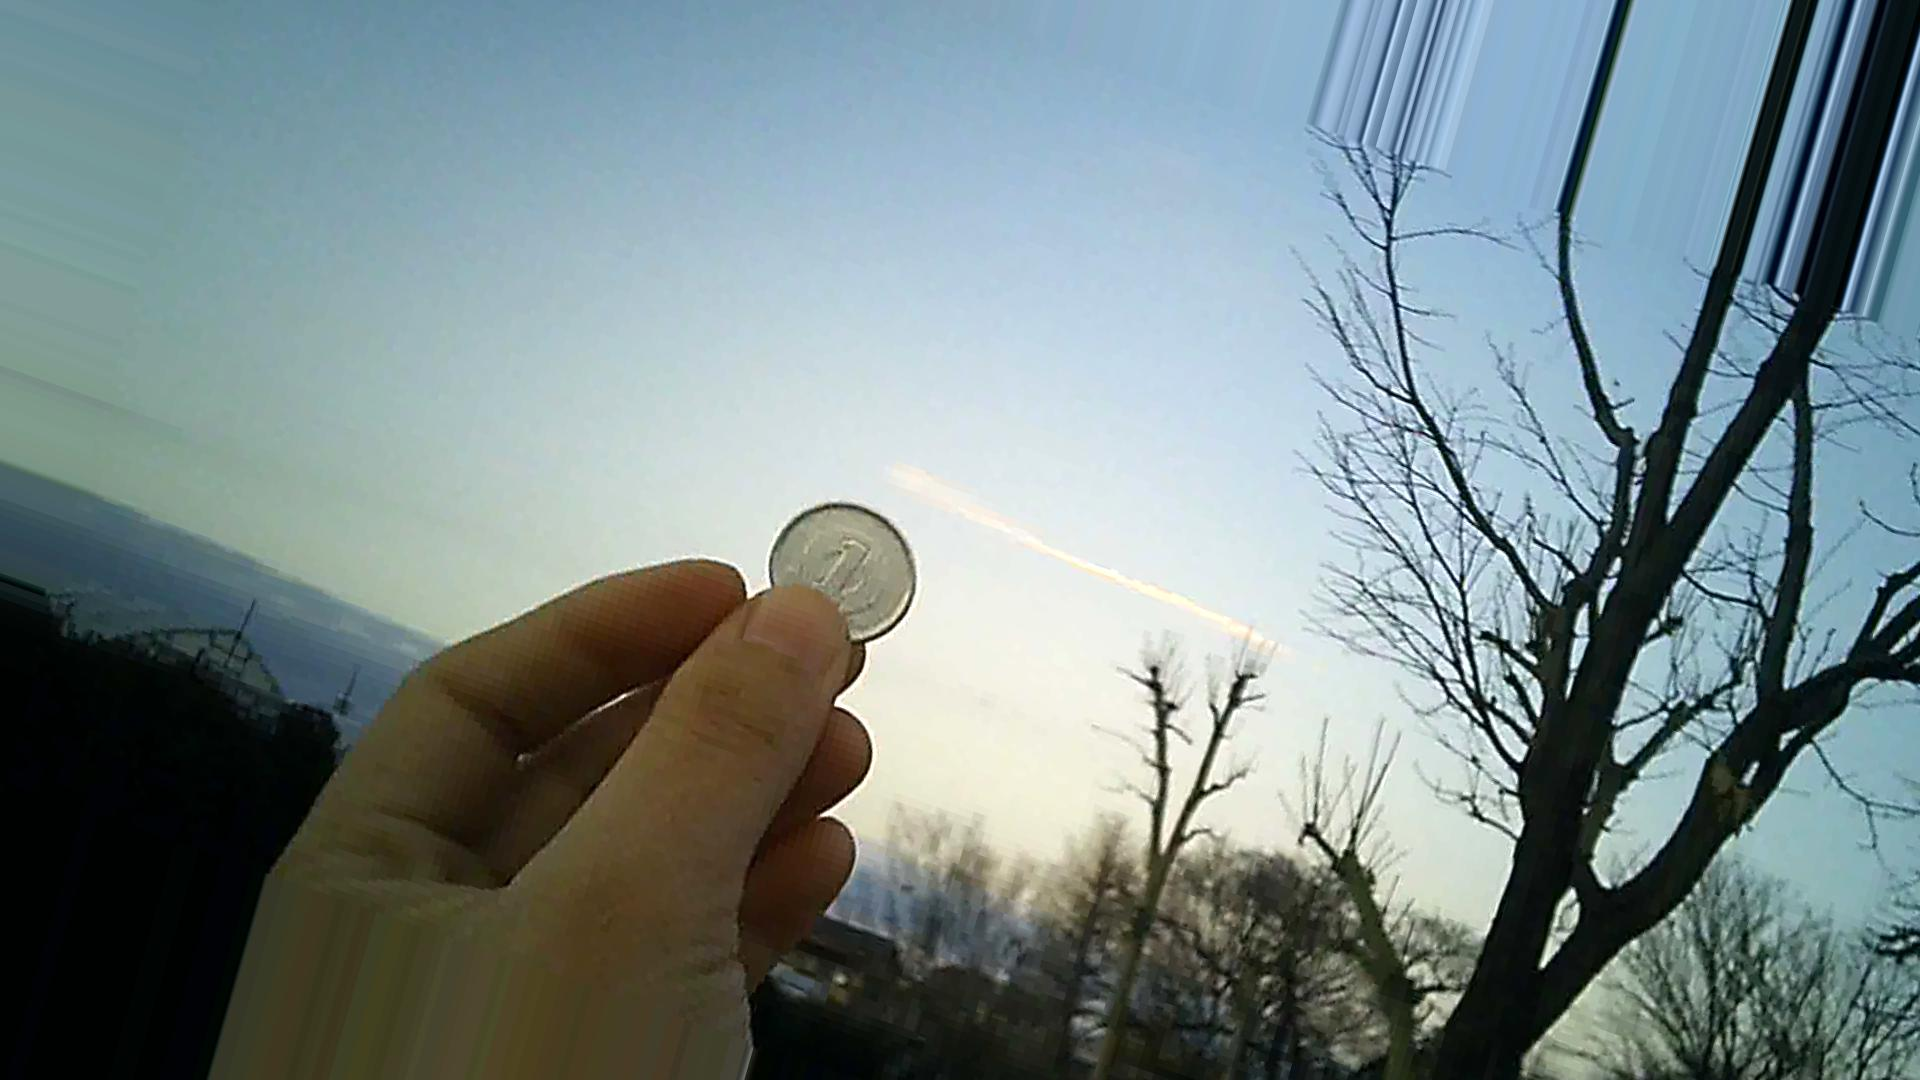1 Yen: (756, 485, 949, 655)
